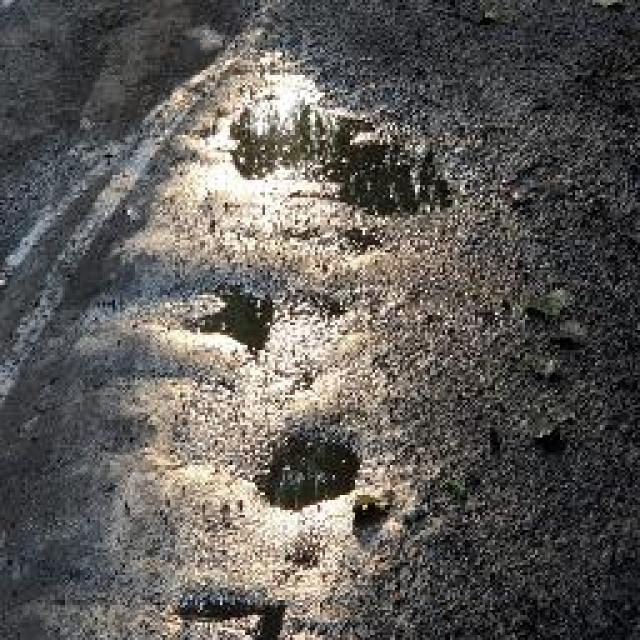puddle: (228, 73, 449, 217)
